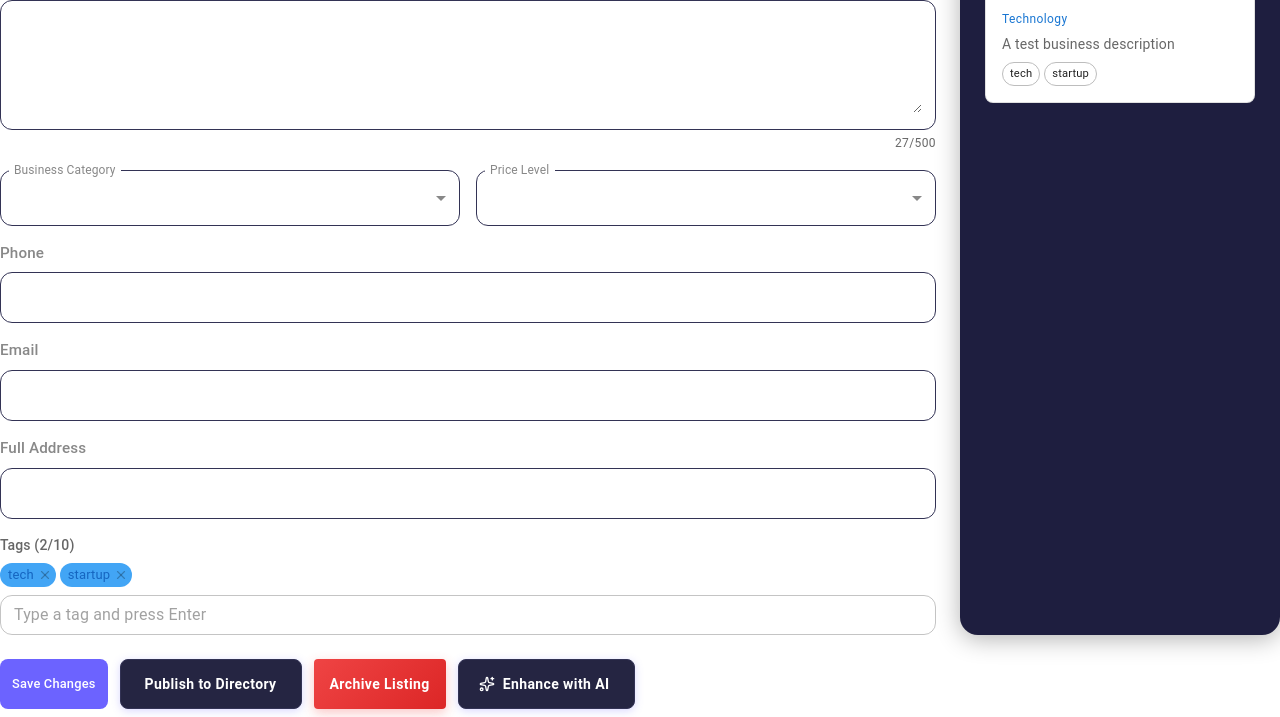
Scenario: ListingEditTab › blocks publish when completeness < 60%
(page scrolled)
Click the button with test id "publish-btn". click: (210, 684)
box: [120,659,302,709]
(page scrolled)
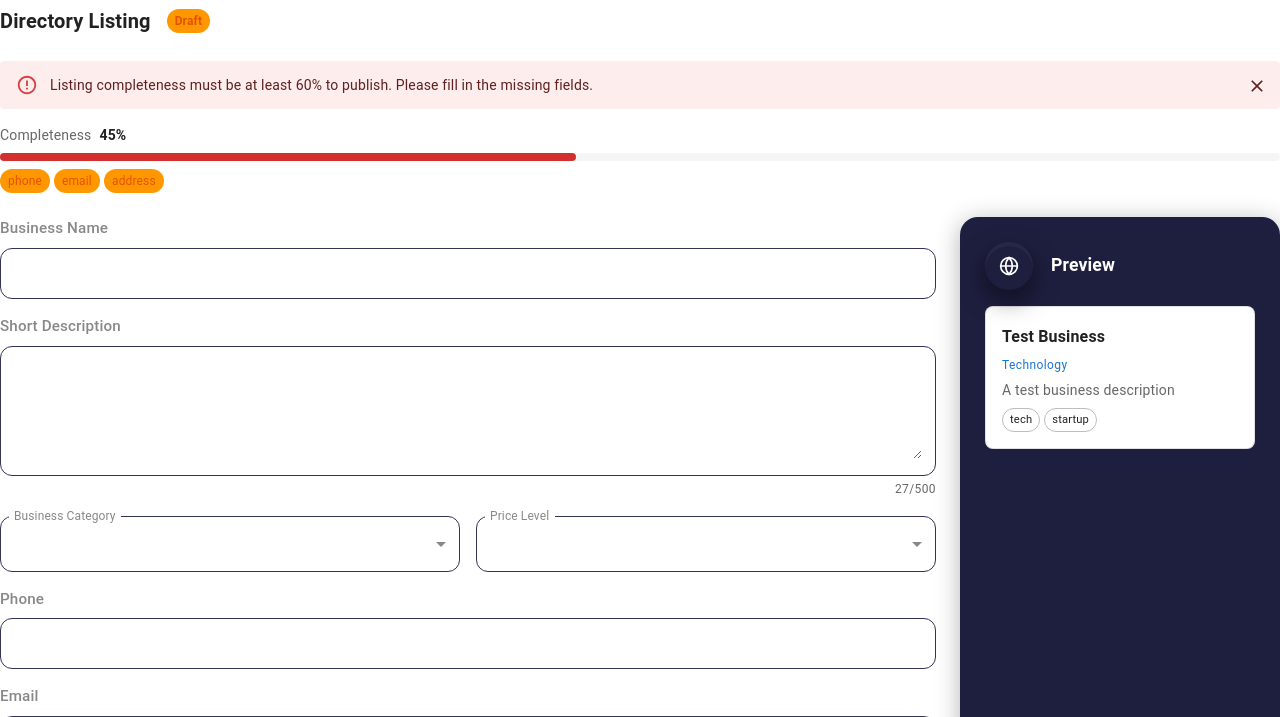
Now the text "completeness must be at least 60%" is shown, box [50,77,593,93]
